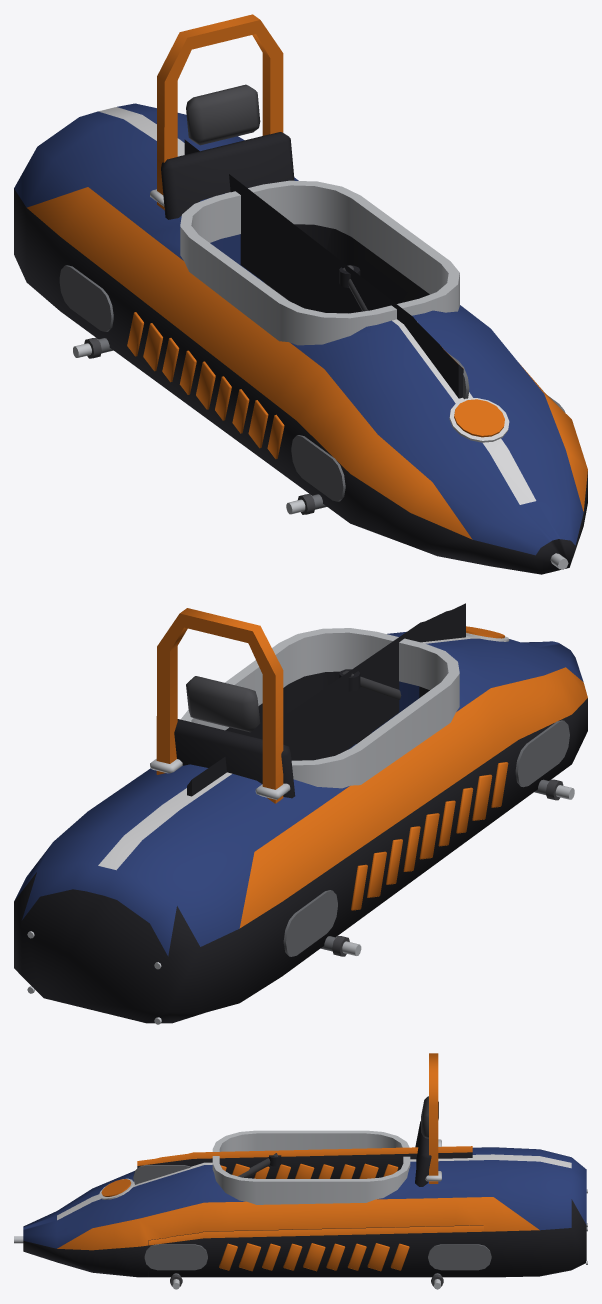
The model's file is streamliner.glb.
The picture shows the model from 3 angles, top to bottom: view 1: azimuth 30°, elevation 25°; view 2: azimuth 150°, elevation 25°; view 3: azimuth 270°, elevation 25°; orthographic projection. The views are drawn at different scales.
Parts seen in each view (by area): view 1: streamliner, streamliner_sig, streamliner_wreck; view 2: streamliner, streamliner_sig, streamliner_wreck; view 3: streamliner, streamliner_sig, streamliner_wreck.
Part boxes in pixels (box(x1,y1,x2,y2)): streamliner: box(14, 14, 587, 574); streamliner_sig: box(184, 139, 469, 399); streamliner_wreck: box(59, 266, 566, 566); streamliner: box(14, 608, 587, 1024); streamliner_sig: box(187, 603, 465, 796); streamliner_wreck: box(28, 626, 574, 1024); streamliner: box(14, 1053, 587, 1289); streamliner_sig: box(133, 1146, 472, 1184); streamliner_wreck: box(14, 1178, 587, 1289).
Size of the model in its own units: 1.07 by 1.12 by 3.08.
